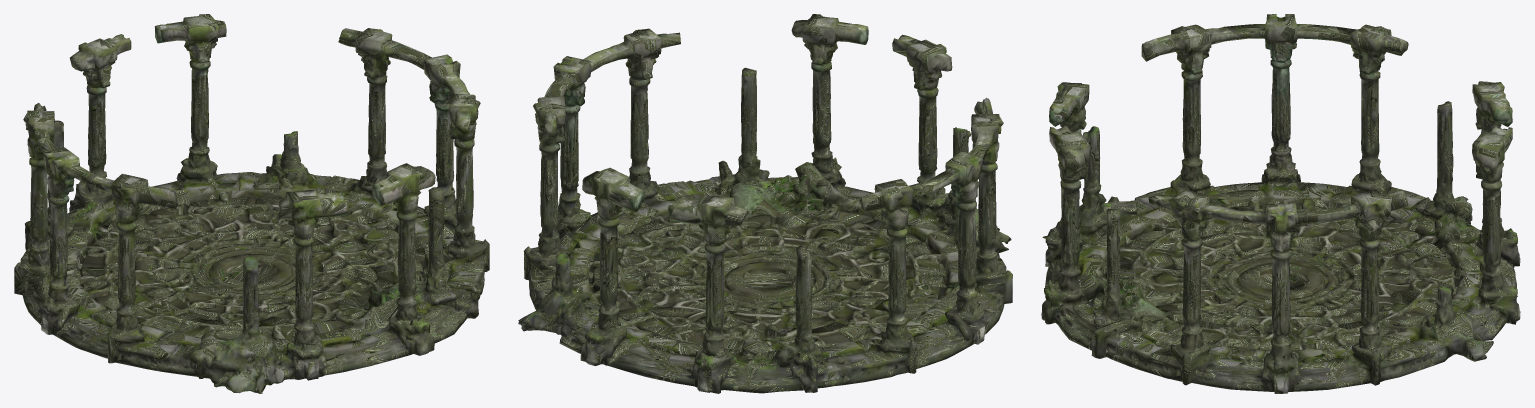
The model's file is Ancient_Stone_Circle.glb.
3 views of the same model, side by side, from view 1: azimuth 30°, elevation 25°; view 2: azimuth 150°, elevation 25°; view 3: azimuth 270°, elevation 25° (orthographic). The views are drawn at different scales.
Parts seen in each view (by area): view 1: Ancient_Stone_Circle; view 2: Ancient_Stone_Circle; view 3: Ancient_Stone_Circle.
Boxes of the visible parts, <box> form: Ancient_Stone_Circle: <box>14,14,489,393</box>; Ancient_Stone_Circle: <box>518,14,1012,393</box>; Ancient_Stone_Circle: <box>1041,14,1520,393</box>.
Size of the model in its own units: 1.9 by 0.7683 by 1.87.
Materials: 1 (1 with a texture image).
